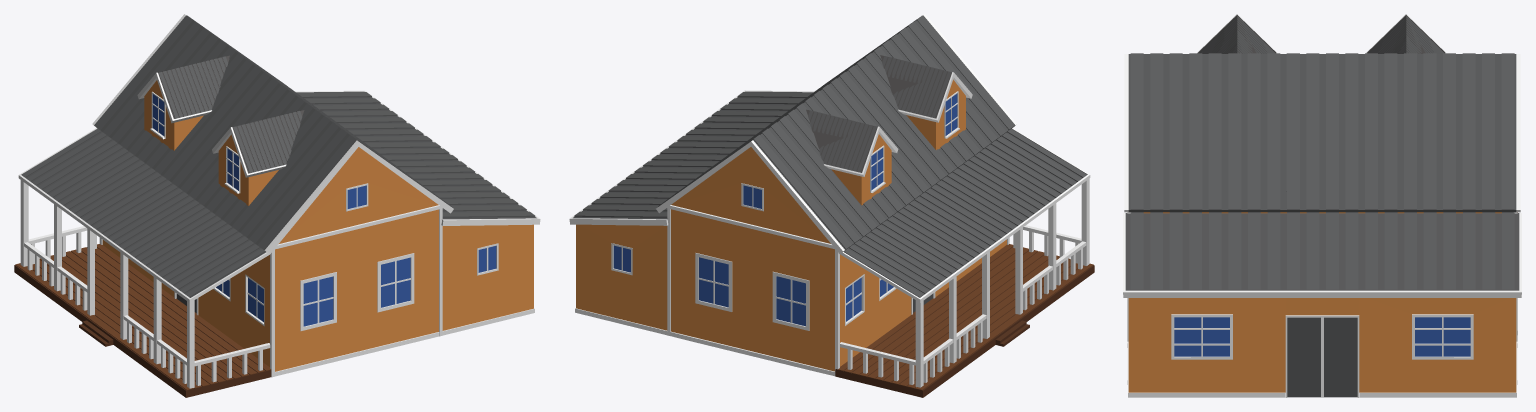
Rendered from FarmHouse_5.fbx.
The picture shows the model from 3 angles, left to right: view 1: azimuth 30°, elevation 25°; view 2: azimuth 150°, elevation 25°; view 3: azimuth 270°, elevation 25°; orthographic projection. The views are drawn at different scales.
Visible parts, largest first — view 1: FarmHouse_5; view 2: FarmHouse_5; view 3: FarmHouse_5.
Part boxes in pixels (<box>): FarmHouse_5: <box>14,14,540,397</box>; FarmHouse_5: <box>569,14,1094,397</box>; FarmHouse_5: <box>1123,14,1521,397</box>.
Bounding box in the file's own units: 816 × 469 × 689.
